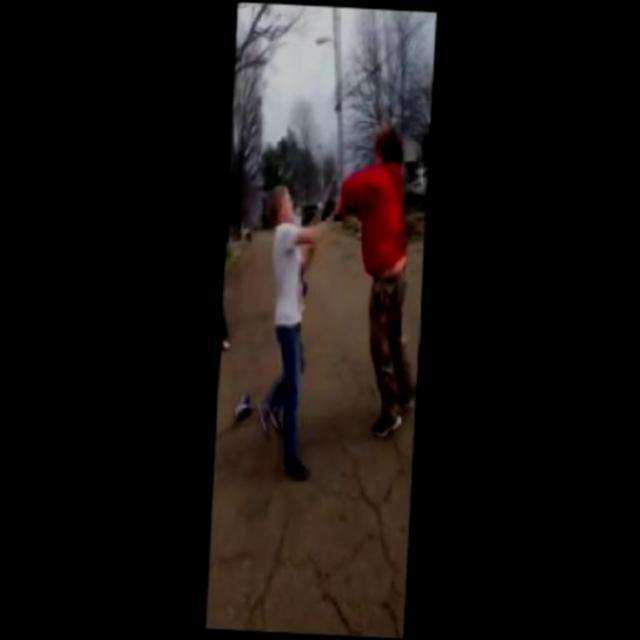fight: (264, 119, 413, 336)
